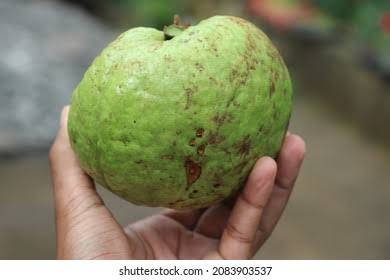guava: (39, 13, 366, 224)
